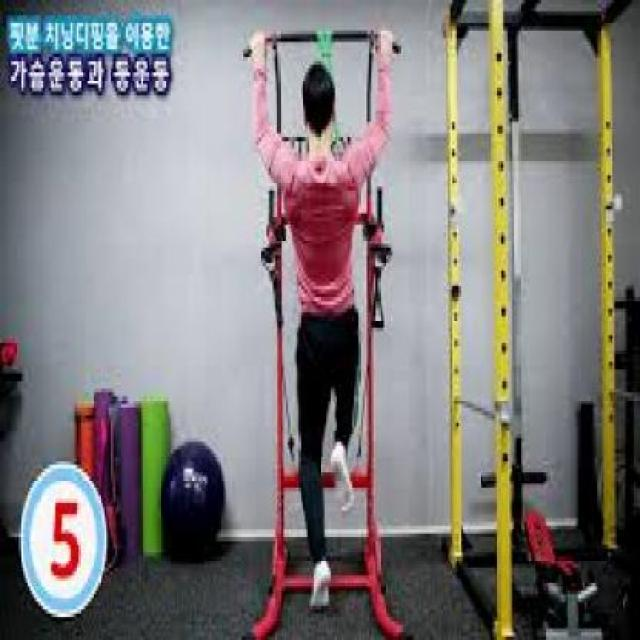chinning dipping: (241, 23, 414, 640)
